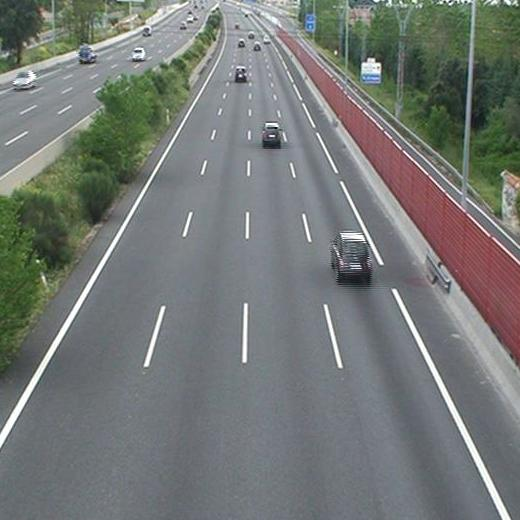car: (332, 232, 369, 276), (263, 123, 281, 144), (235, 66, 247, 80), (253, 42, 261, 50), (237, 39, 245, 47)
